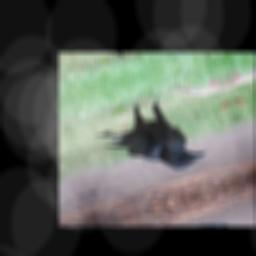Crow: (88, 83, 210, 192)
